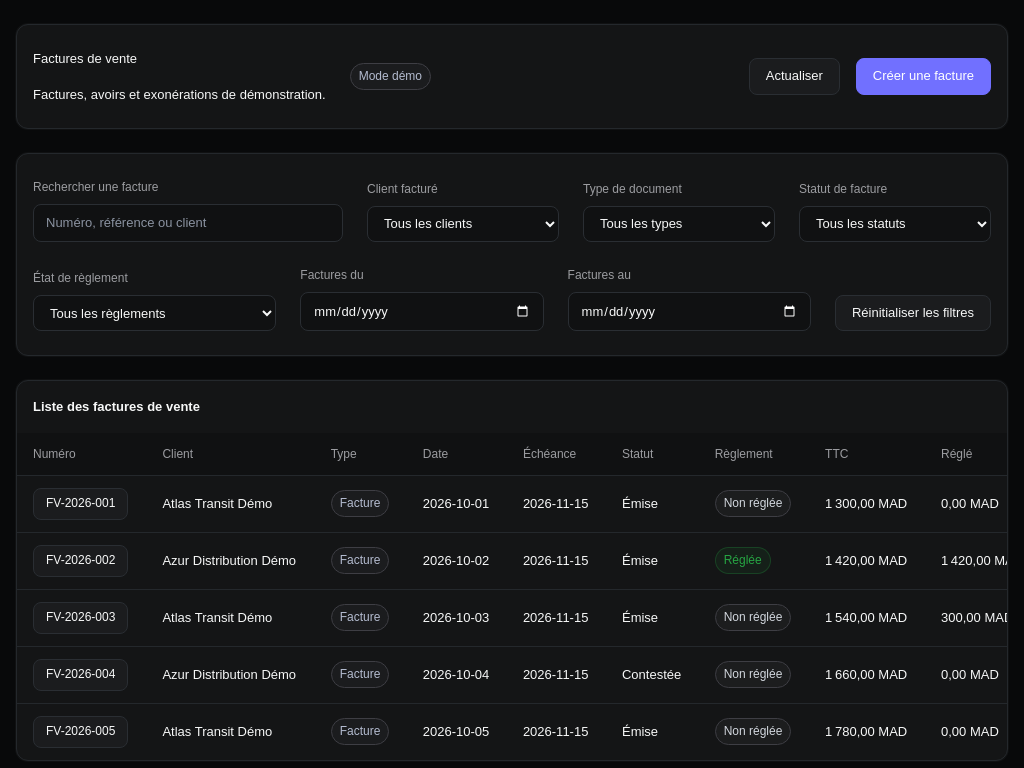
Test: Factures de vente › applies exemption then recalculates without silently presenting stale totals
This screenshot has width=1024, height=768.
Expected: the table "Liste des factures de vente" is shown, [17, 381, 1007, 760]
Click the button "FV-2026-001": (81,504) [33, 488, 128, 520]
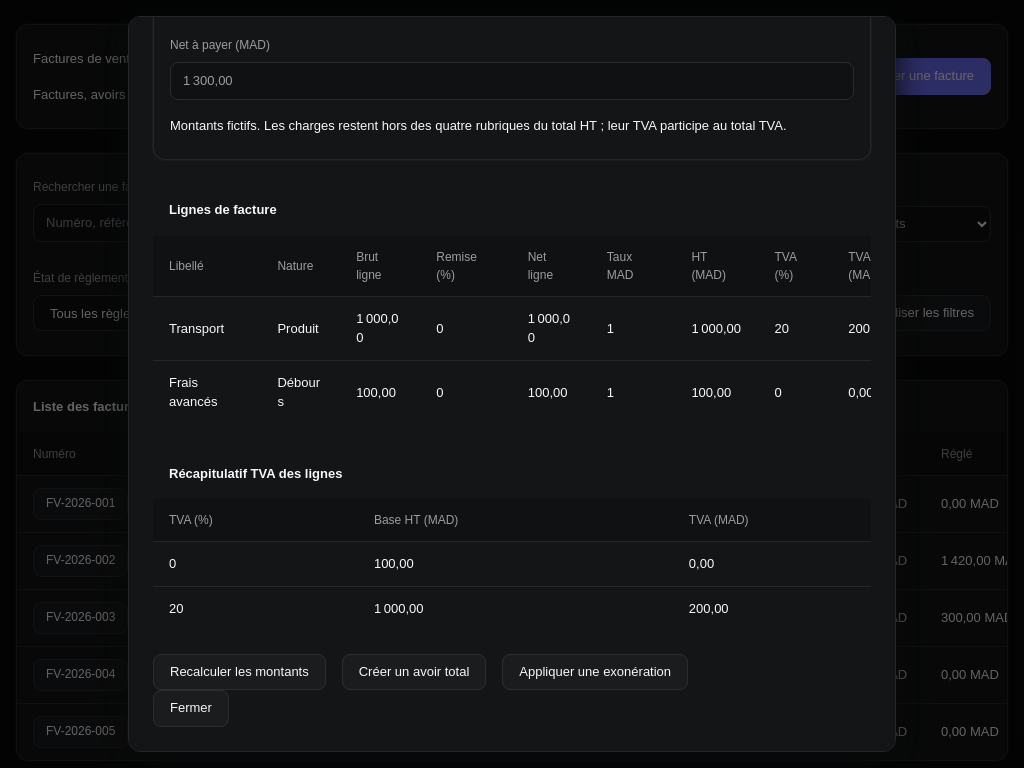
Now the dialog "Fiche facture de vente" is shown
Click the button "Appliquer une exonération": (595,672) [502, 654, 688, 690]
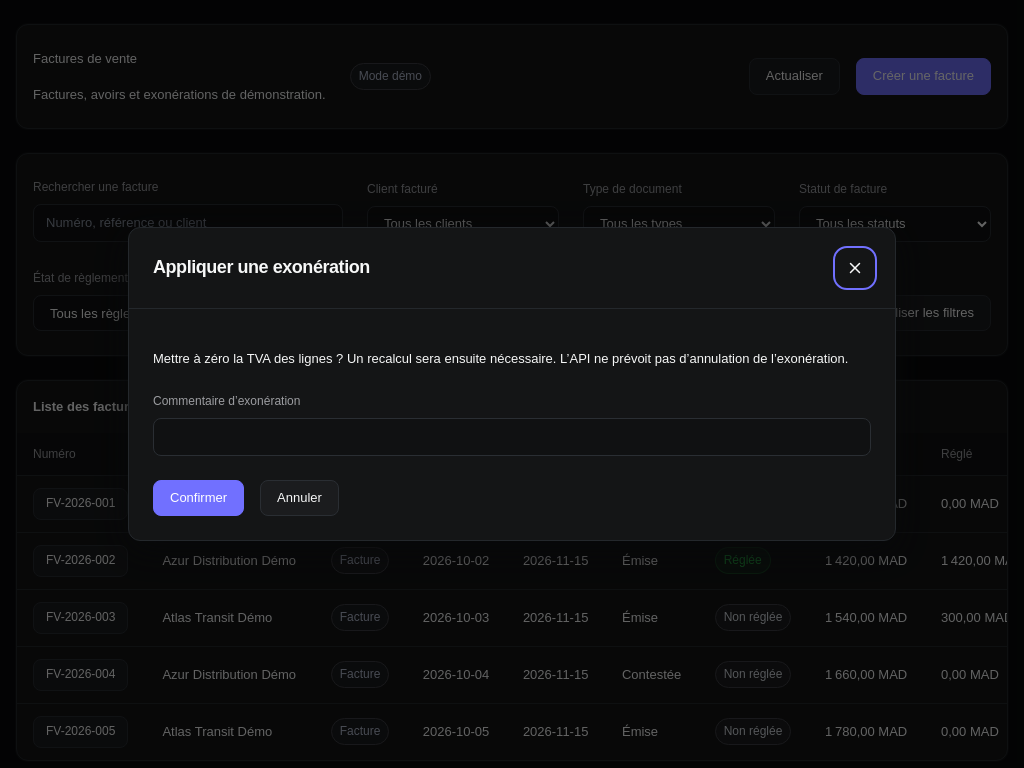
In the field labelled "Commentaire d’exonération": (512,437) [153, 418, 871, 456], type "Attestation Démo"
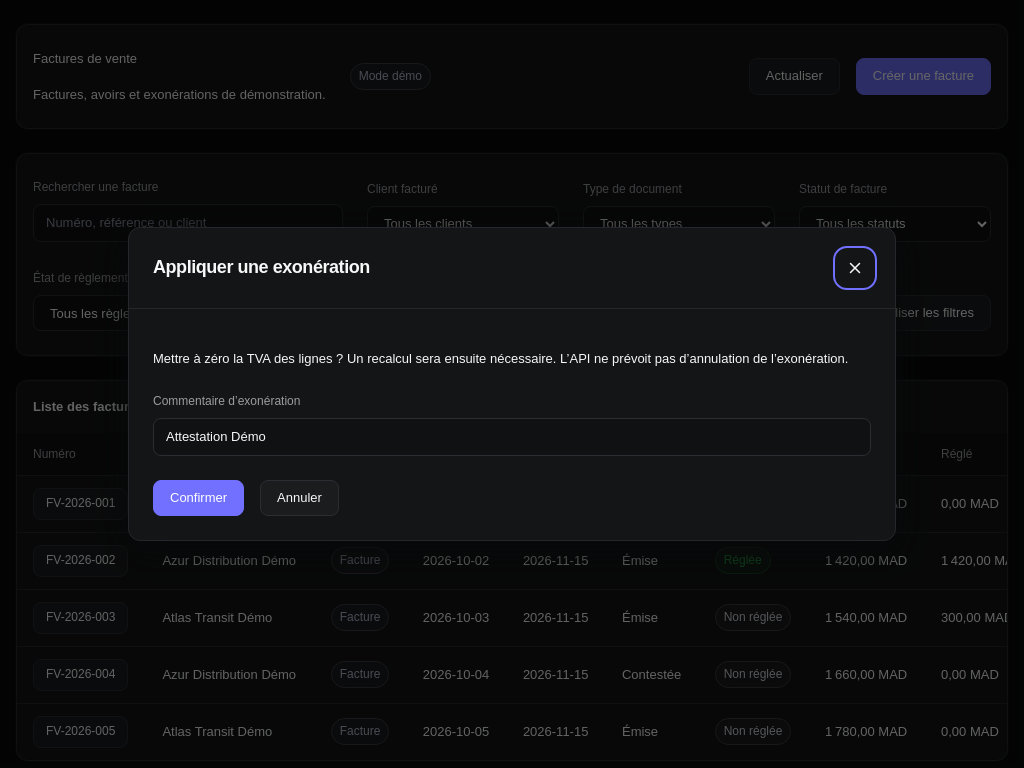
Click the button "Confirmer": (199,498) [153, 480, 244, 516]
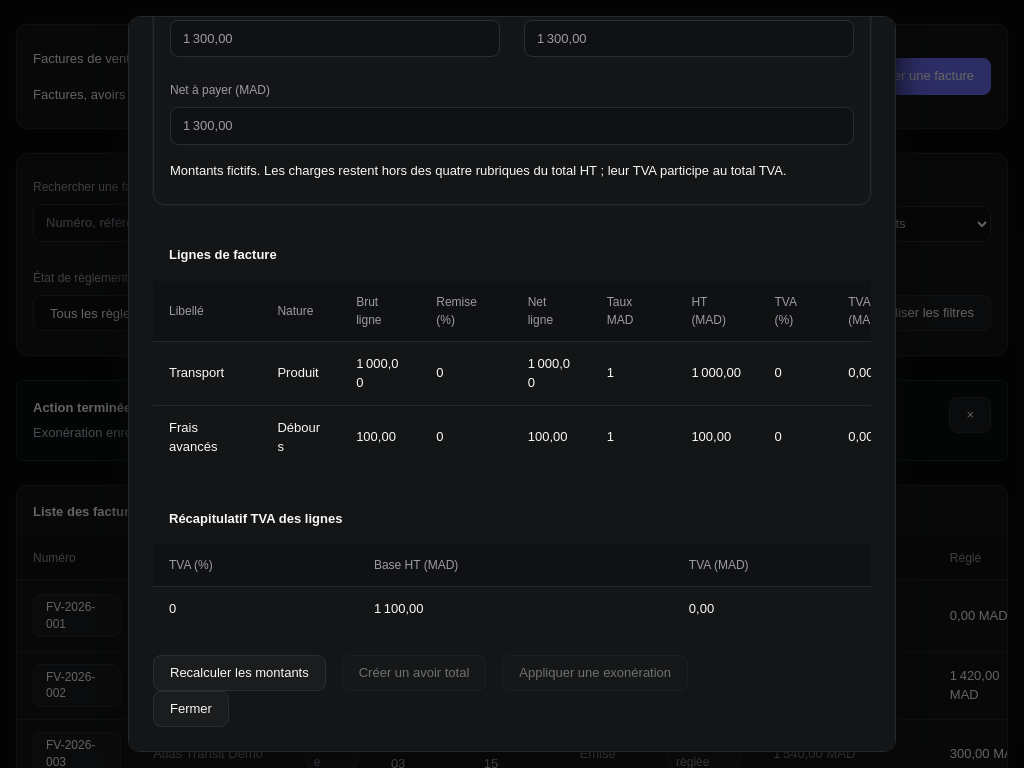
Now the dialog "Fiche facture de vente" is shown
Now the button "Créer un avoir total" is disabled, box [342, 654, 486, 691]
Click the button "Recalculer les montants": (239,673) [153, 654, 326, 691]
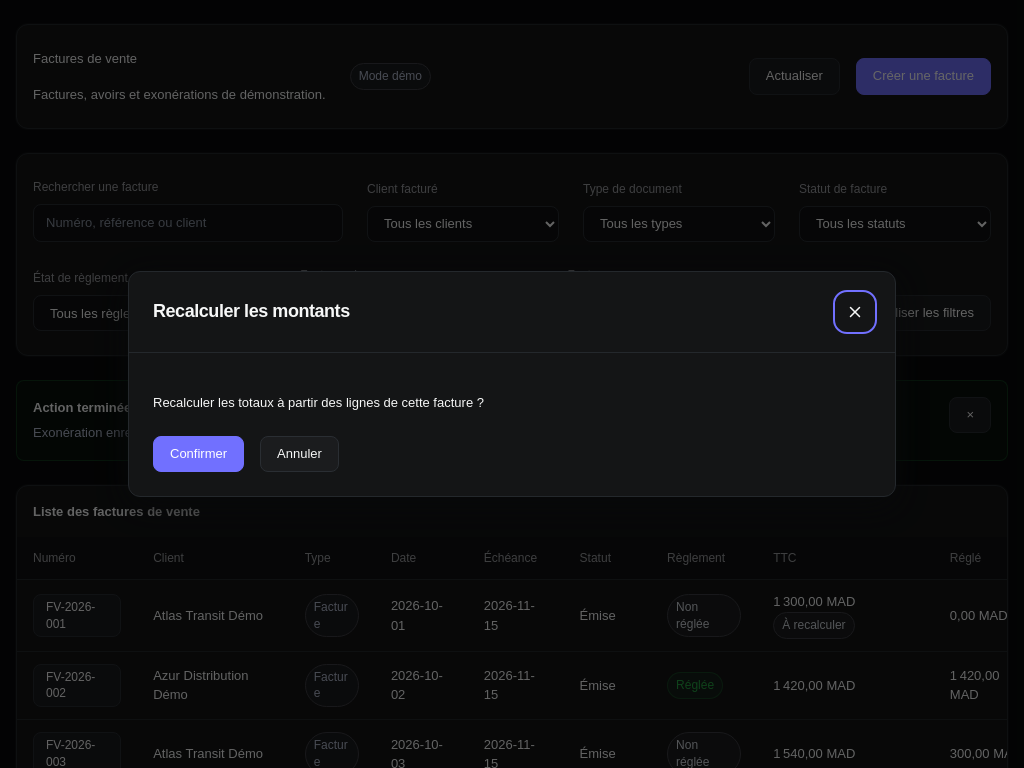
Click the button "Confirmer": (199,454) [153, 436, 244, 472]
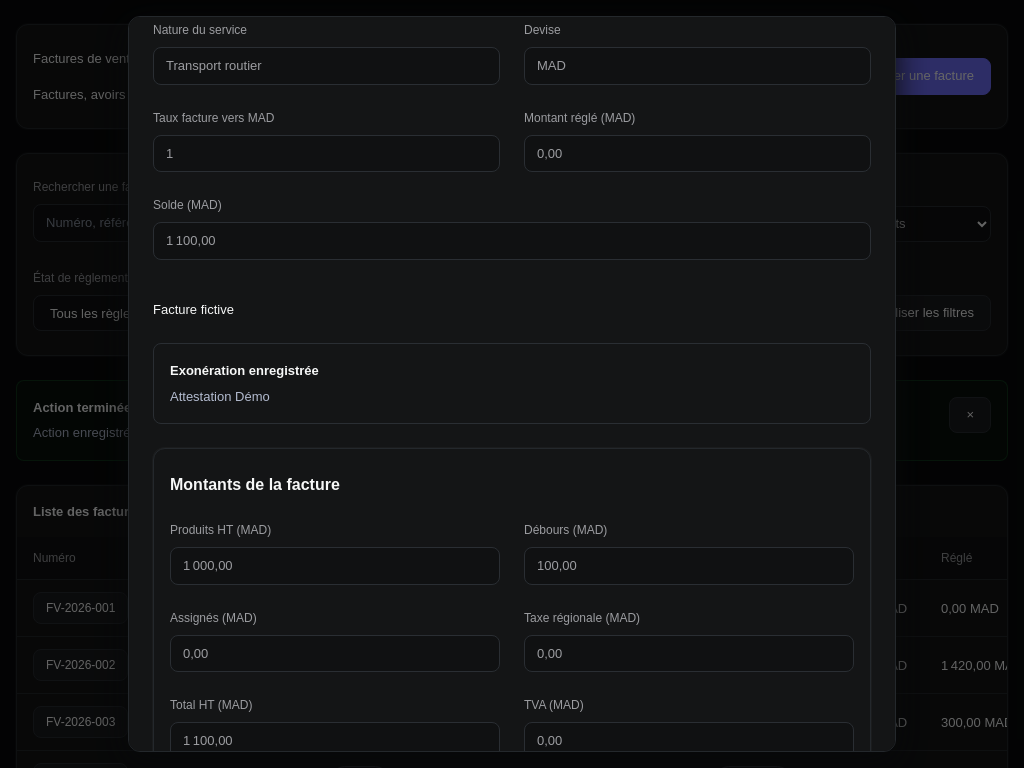
Now the dialog "Fiche facture de vente" is shown
Now the field labelled "TVA (MAD)" holds "0,00", box [524, 722, 854, 752]
Now the text "Attestation Démo" is shown, box [170, 389, 270, 404]
